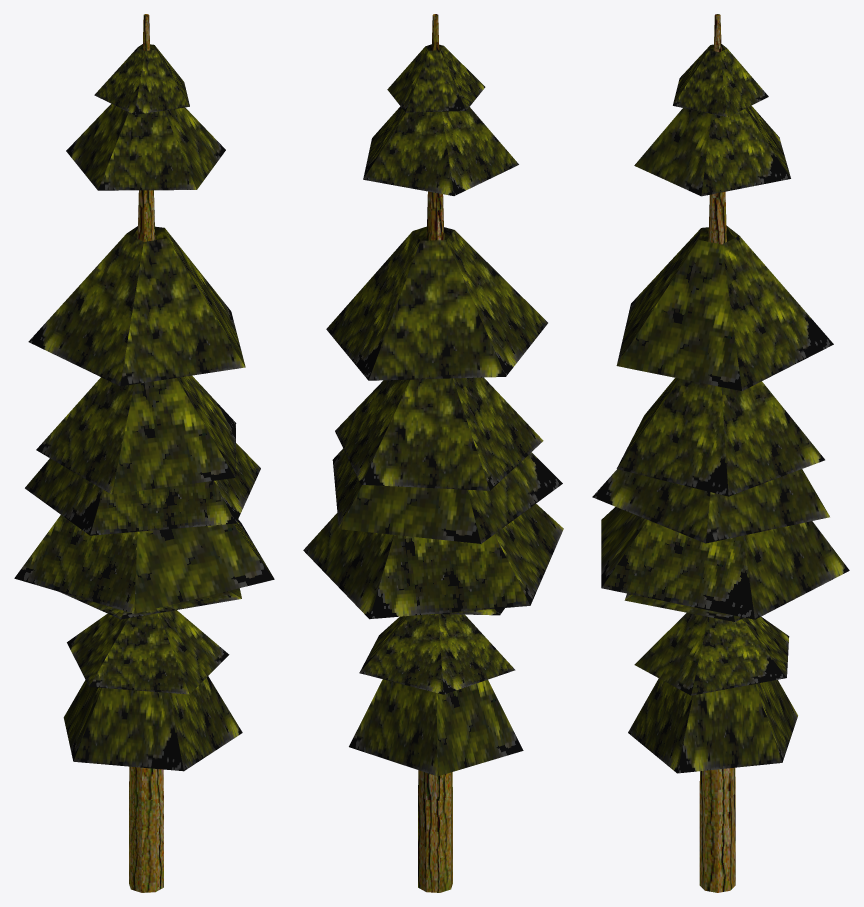
The model's file is Tree2VAR_3.fbx.
3 views of the same model, side by side, from view 1: azimuth 30°, elevation 25°; view 2: azimuth 150°, elevation 25°; view 3: azimuth 270°, elevation 25° (orthographic).
Parts seen in each view (by area): view 1: Cylinder; view 2: Cylinder; view 3: Cylinder.
Part boxes in pixels (bbox=[...]): Cylinder: bbox=[14, 14, 274, 892]; Cylinder: bbox=[303, 14, 563, 892]; Cylinder: bbox=[592, 14, 849, 892].
Size of the model in its own units: 385 by 1409 by 378.
Materials: 2 (2 with a texture image).
